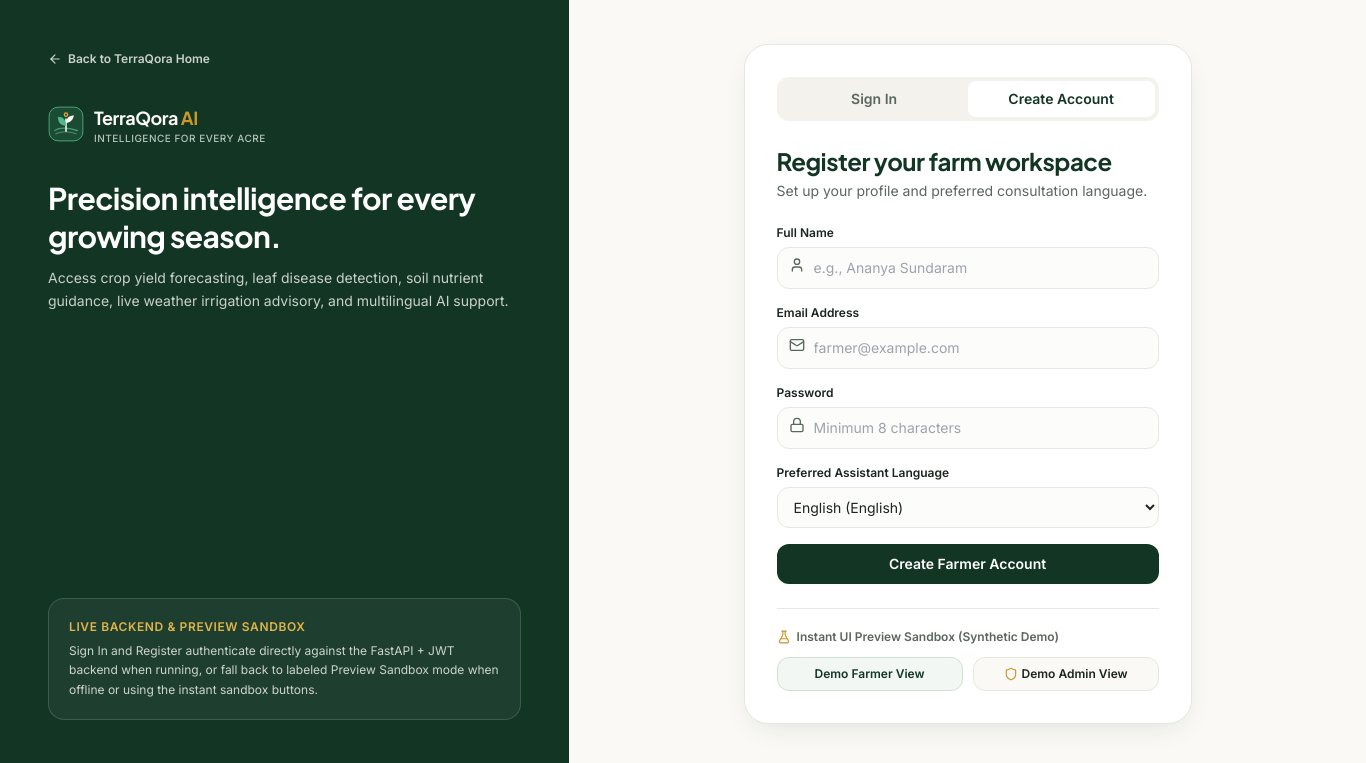
Test: TerraQora AI — Phase 3 Frontend Suite › supports registration tab validation and farmer account creation
The image size is (1366, 763).
Expected: the heading "Register your farm workspace" is shown, [777, 145, 1159, 177]
Type "Kavitha Rajan" into the field labelled "Full Name" at (968, 268), box [777, 247, 1159, 289]
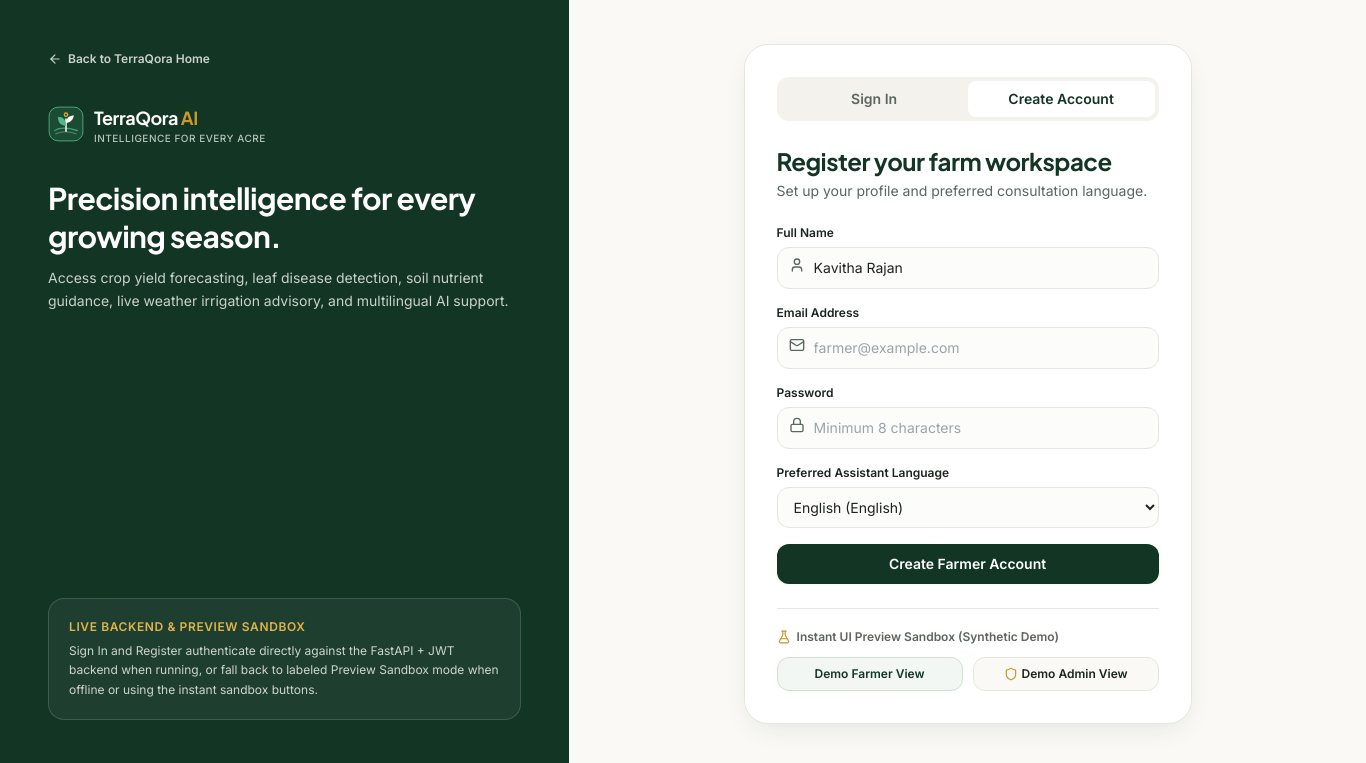
Type "kavitha@farm.in" into the field labelled "Email Address" at (968, 348), box [777, 327, 1159, 369]
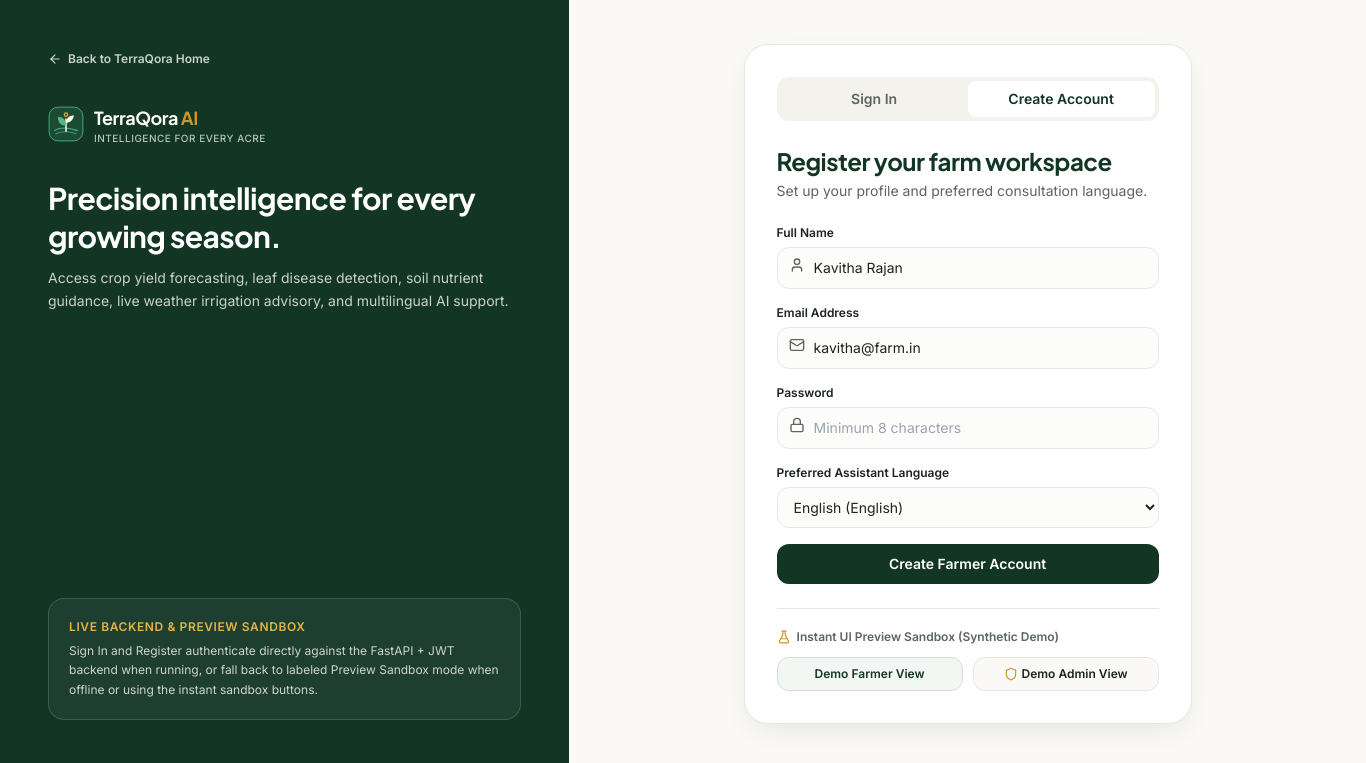
Type "StrongPass#2026" into the password field labelled "Password" at (968, 428), box [777, 407, 1159, 449]
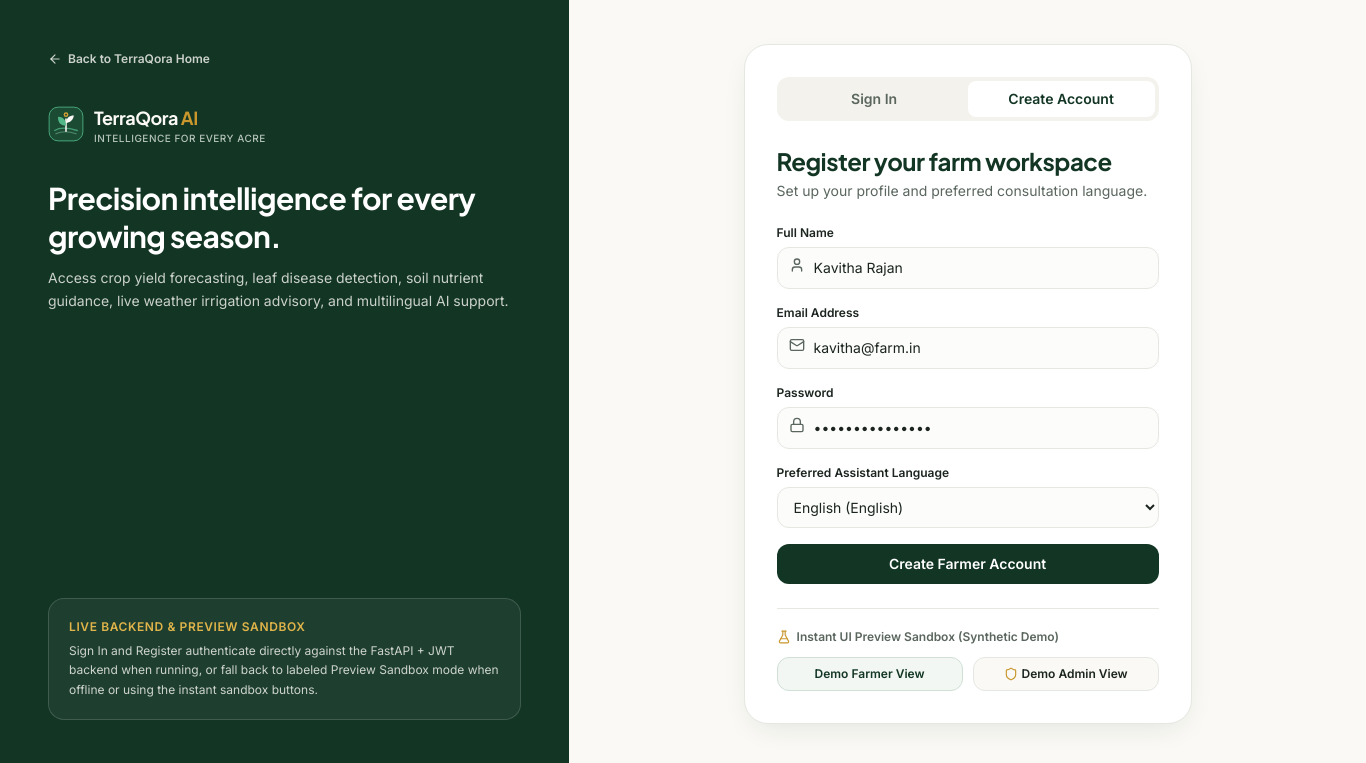
Click the button "Create Farmer Account" at (968, 564), box [777, 544, 1159, 584]
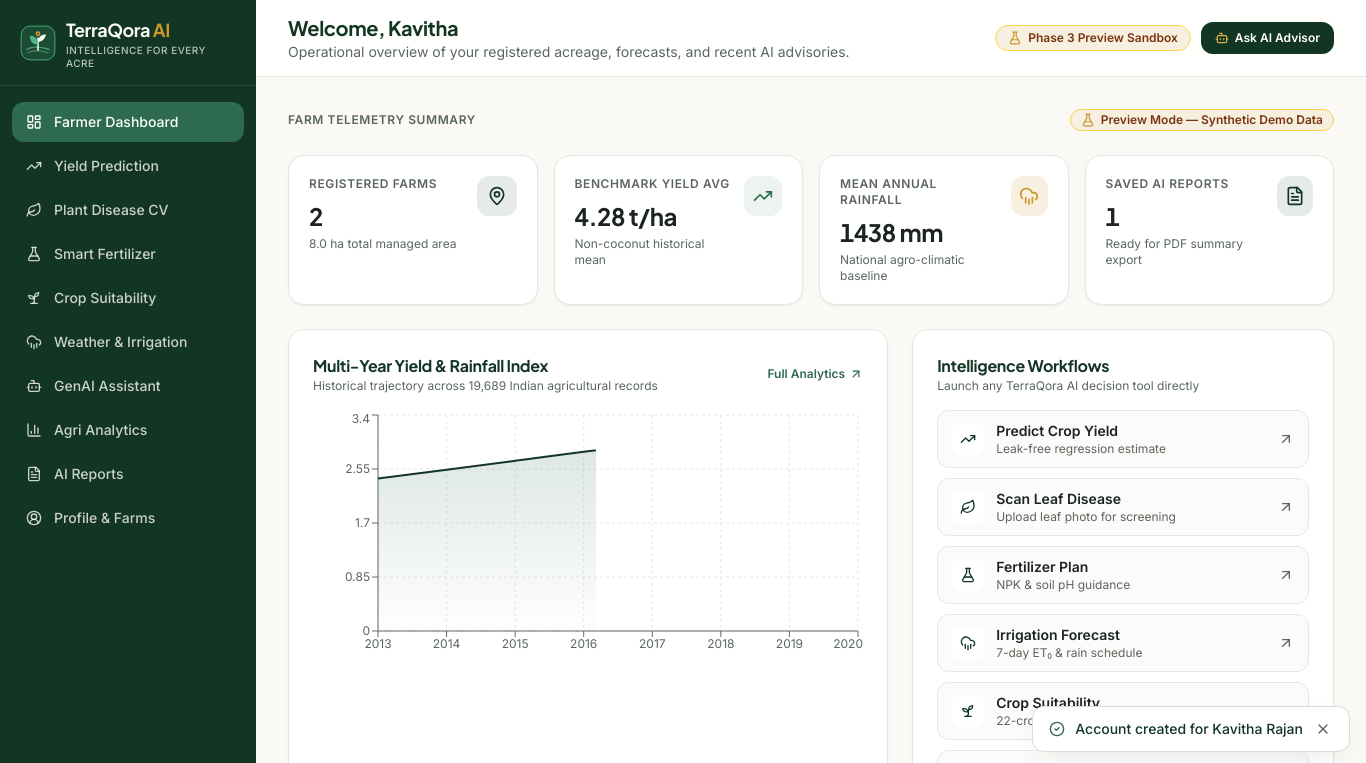
Now the text "Farm Telemetry Summary" is shown, box [288, 112, 476, 128]
